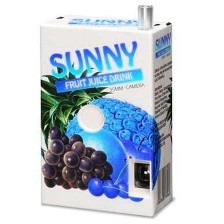carton: (31, 15, 181, 221)
